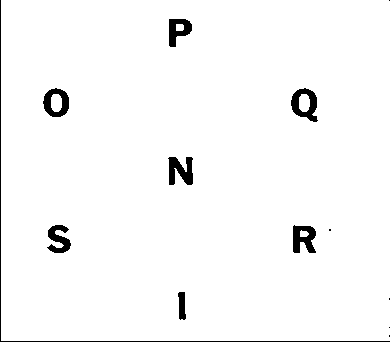I: (171, 287, 192, 325)
